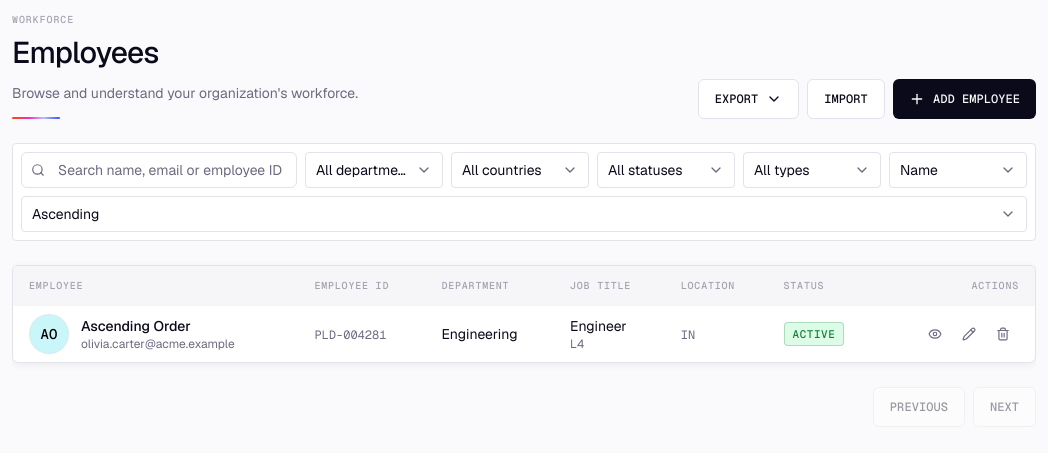
Test case: employee directory › does not reuse rows while a sort-direction request is unresolved
Expected: the text "Ascending Order" is shown, x1=81 y1=317 x2=191 y2=335
Step 1. Click the dropdown named "Sort direction" → [66, 214], box x1=21 y1=196 x2=1027 y2=232
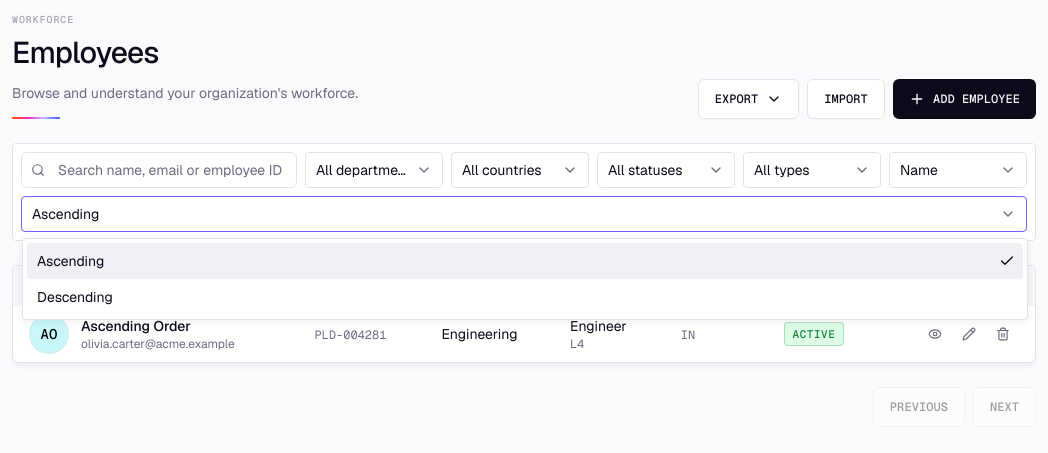
Step 2. Click the option "Descending" → [75, 297], box x1=37 y1=288 x2=113 y2=306
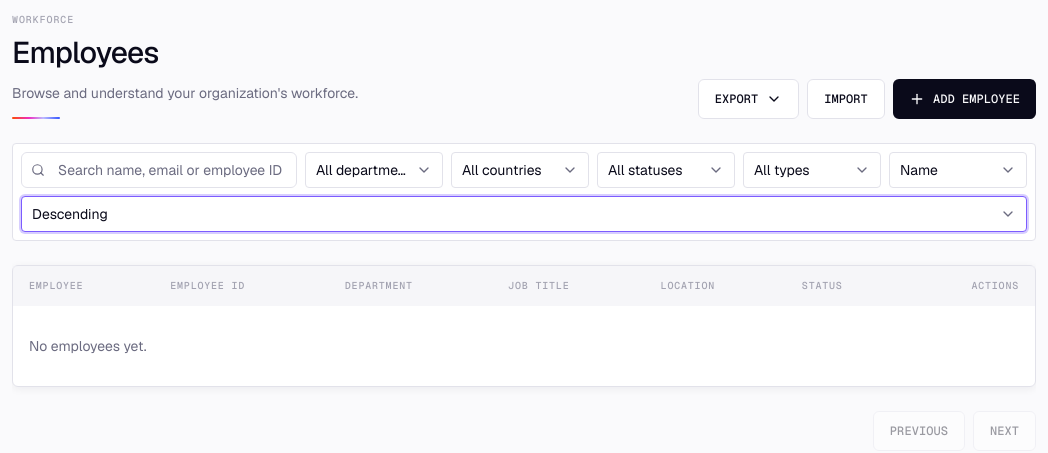
Now the link "Ascending Order" is gone
